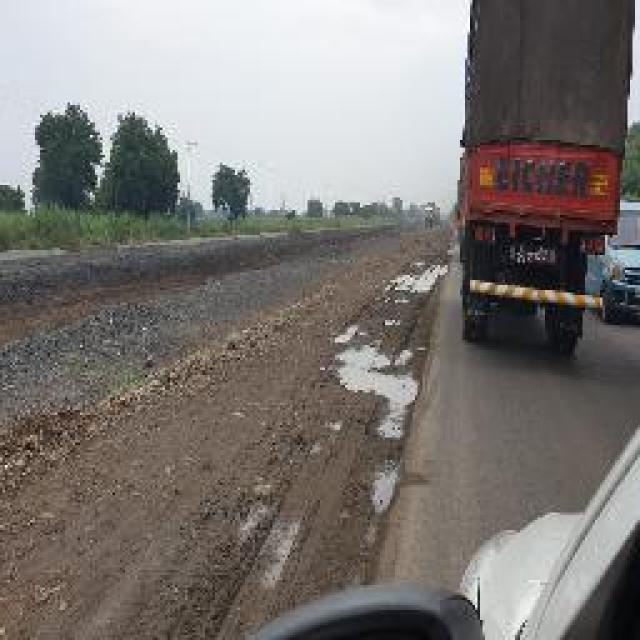waterlogging: (323, 333, 428, 449), (364, 245, 451, 310)
